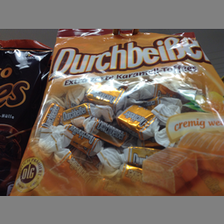candy: (23, 35, 222, 193)
